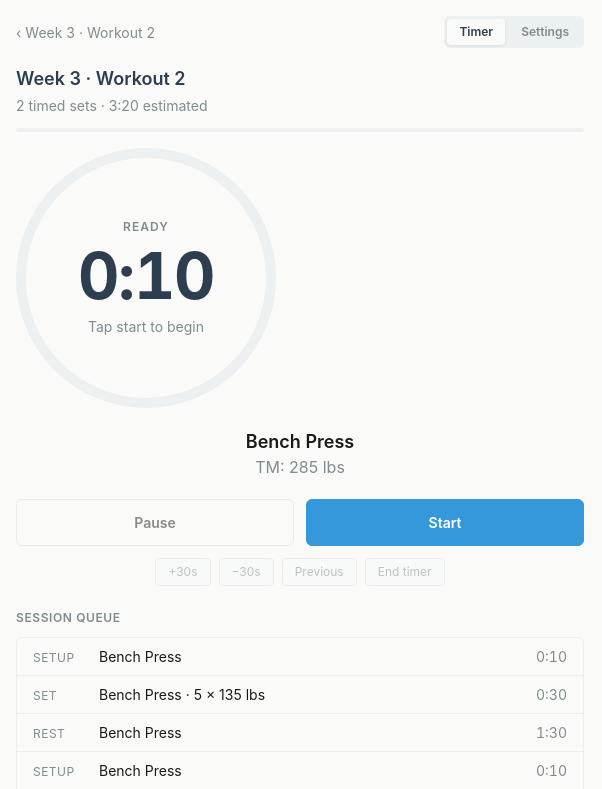
WorkoutTimerView › the Settings tab › switches panels
What coordinates should you click on to do the following:
click the tab "Settings"
I would click on:
 (545, 32)
Its box is [509,19,581,45].
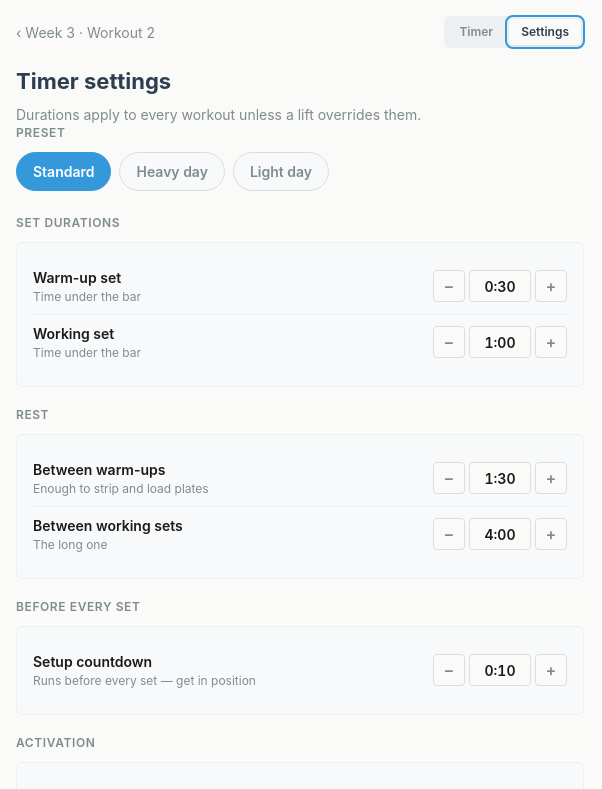
Check: the heading "Timer settings" is shown, box [16,68,171,94]
Check: the radio button labelled "Standard" is checked, box [16,152,112,190]
